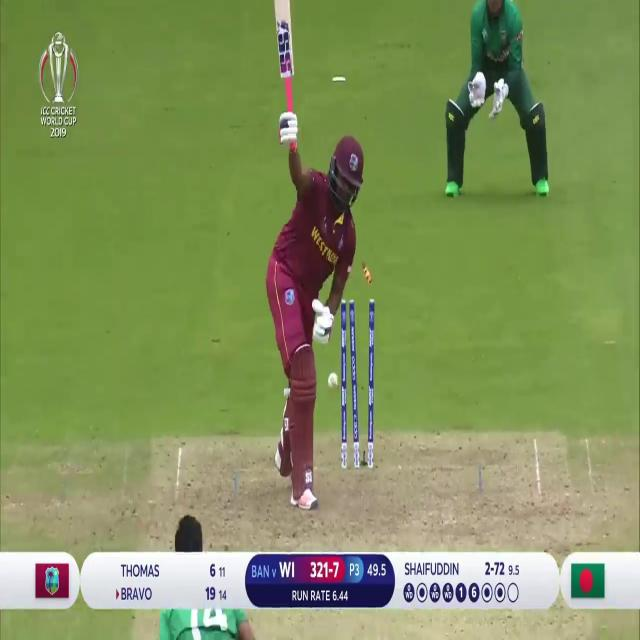ball: (326, 369, 338, 395)
